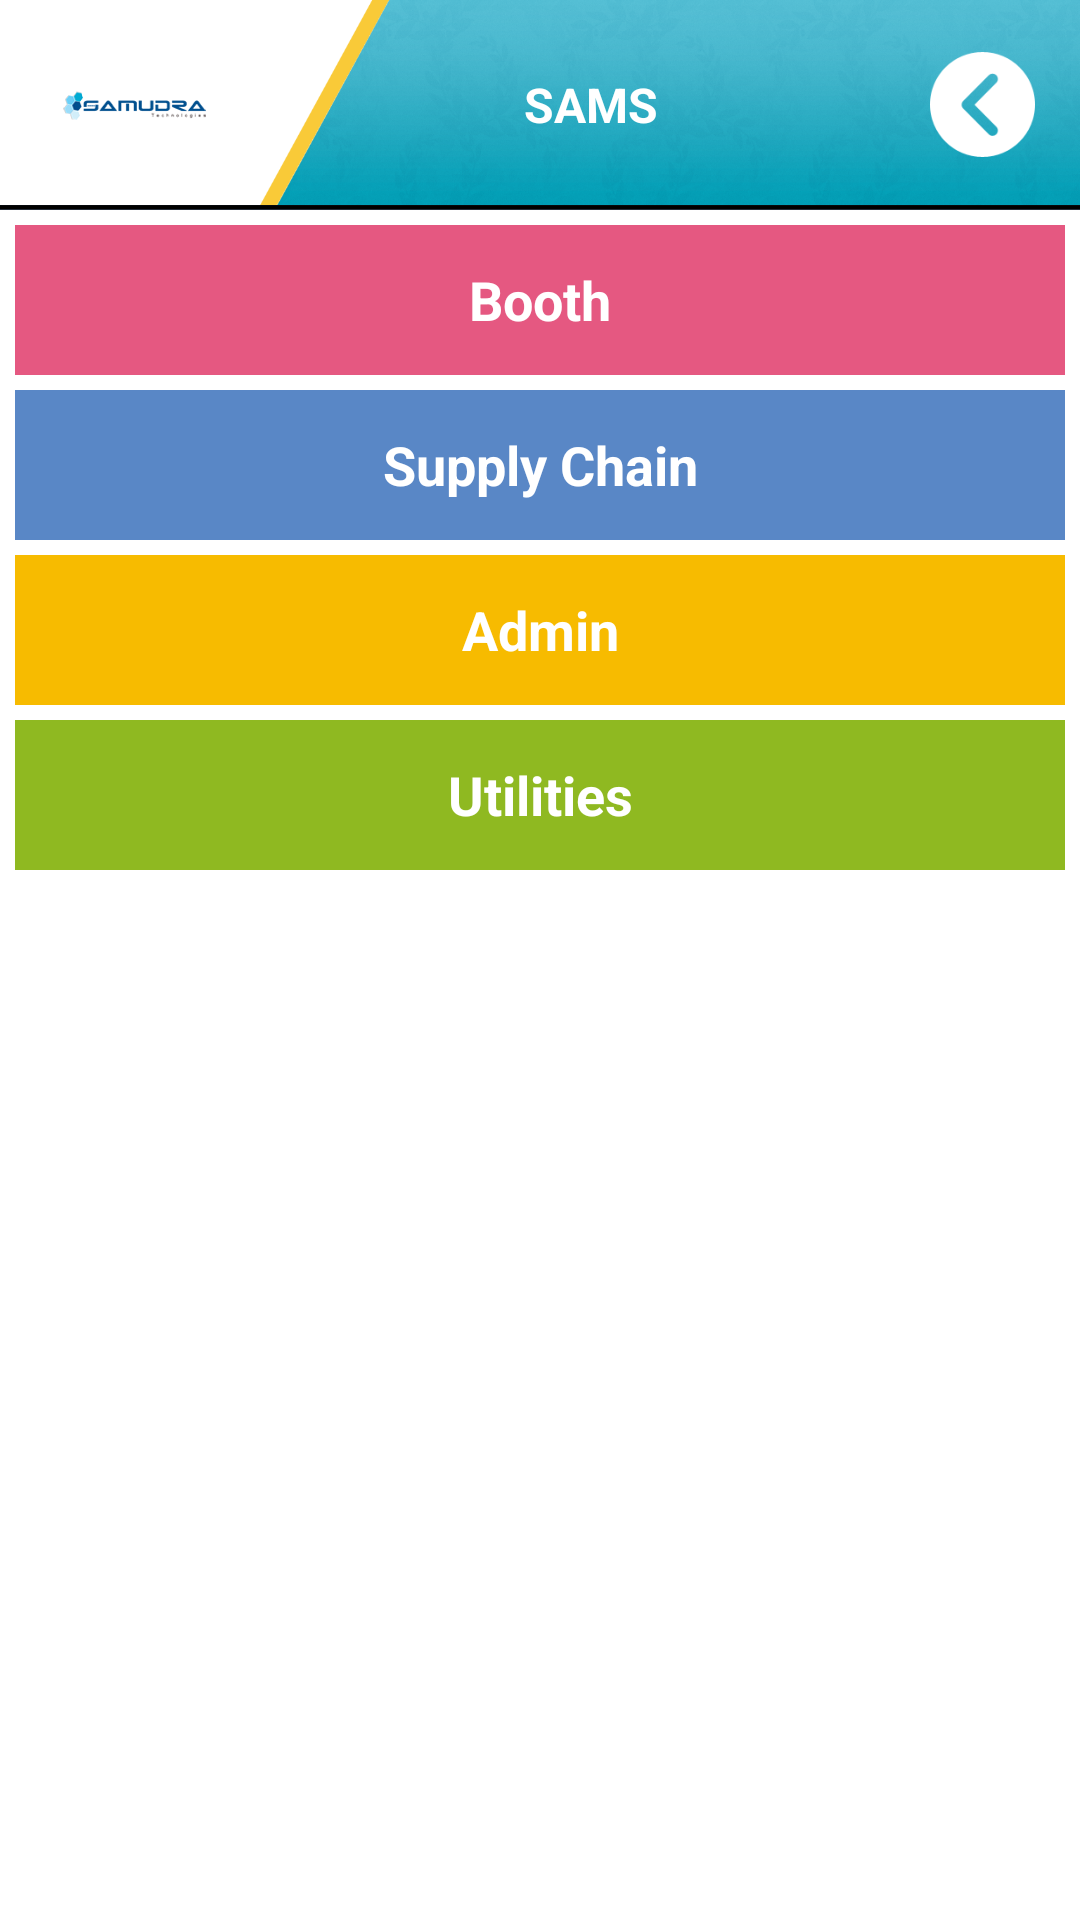

Named icons in this screenshot (1080×1920) and their centers, [x,y]:
back: [982,104]
